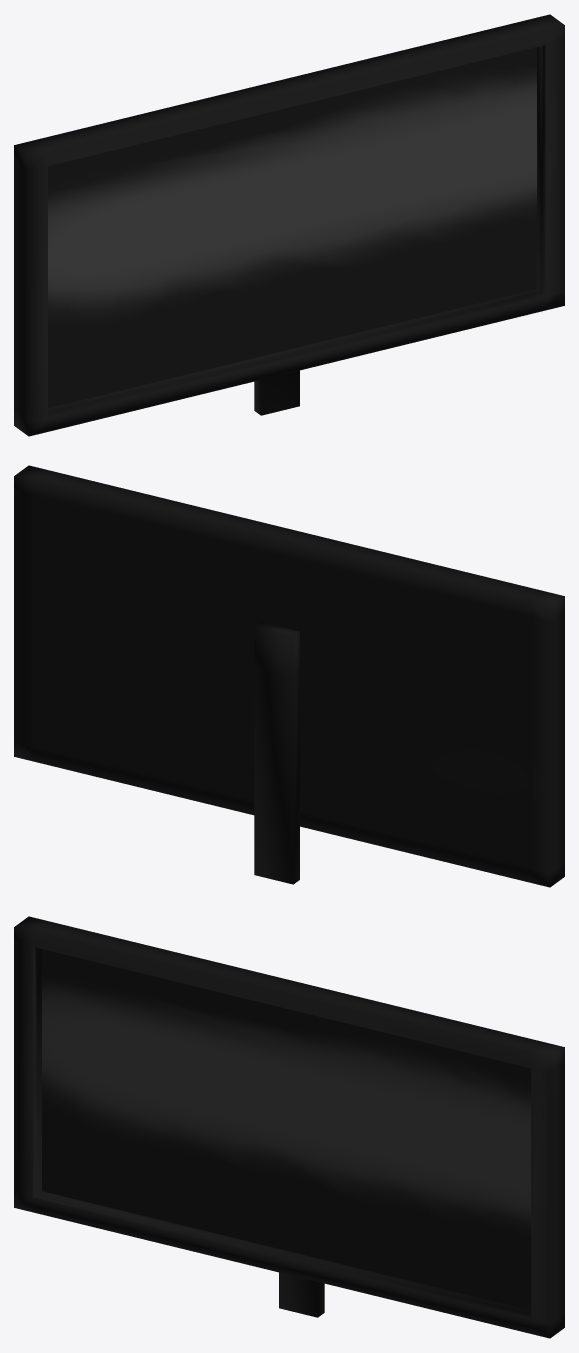
The picture shows the model from 3 angles, top to bottom: view 1: azimuth 30°, elevation 25°; view 2: azimuth 150°, elevation 25°; view 3: azimuth 330°, elevation 25°; orthographic projection.
Parts seen in each view (by area): view 1: KS_TV; view 2: KS_TV; view 3: KS_TV.
Boxes of the visible parts, left/top/right/bottom form: KS_TV: left=14, top=14, right=564, bottom=436; KS_TV: left=14, top=465, right=564, bottom=887; KS_TV: left=14, top=916, right=564, bottom=1338.
Size of the model in its own units: 200 by 118 by 14.84.
